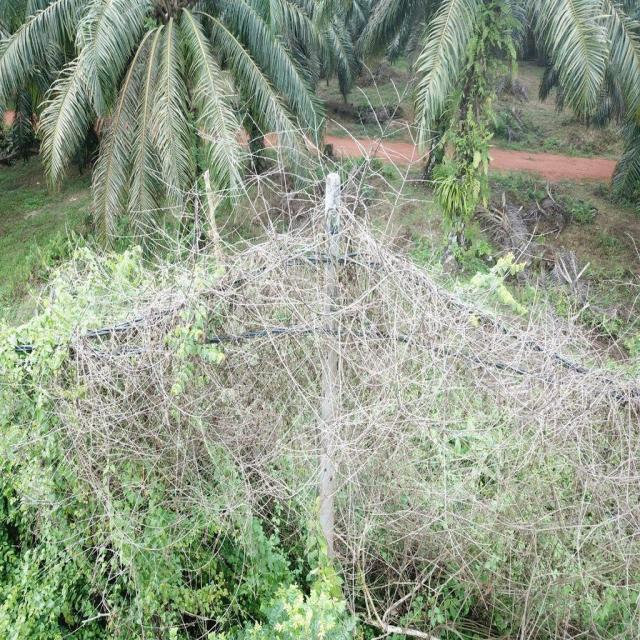critical vegetation: (65, 183, 616, 516)
